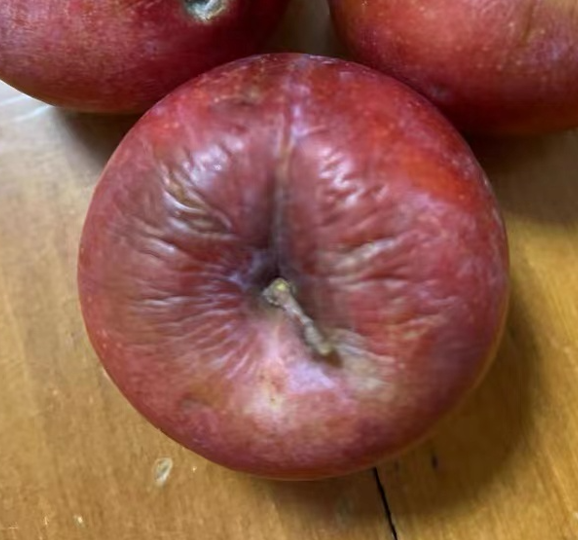plum_C: (78, 52, 508, 482)
